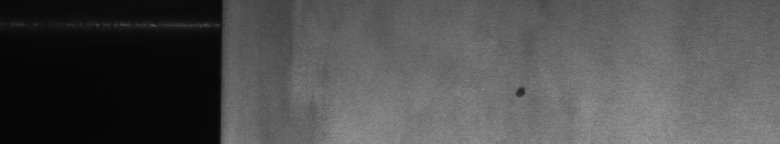fi: (511, 76, 535, 104)
